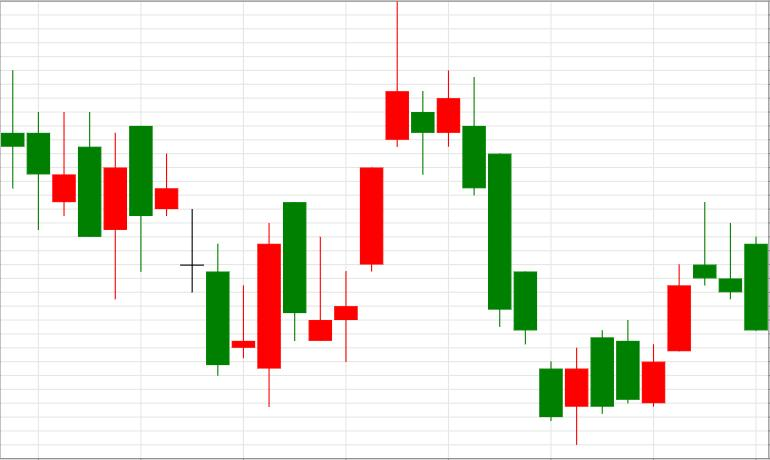shooting_star_fall: (257, 2, 409, 408)
